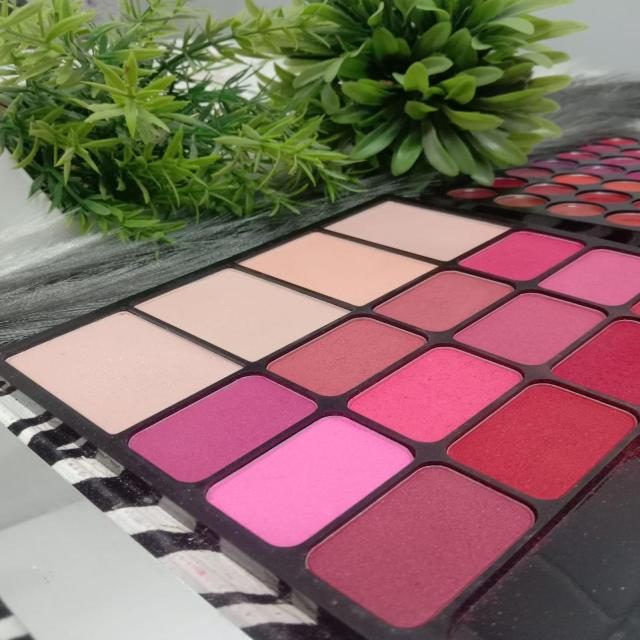blush: (116, 369, 540, 623), (426, 271, 638, 479), (507, 222, 640, 477), (318, 311, 470, 447)
powder: (8, 309, 252, 432), (134, 262, 343, 368), (248, 219, 450, 300), (308, 194, 498, 262)
